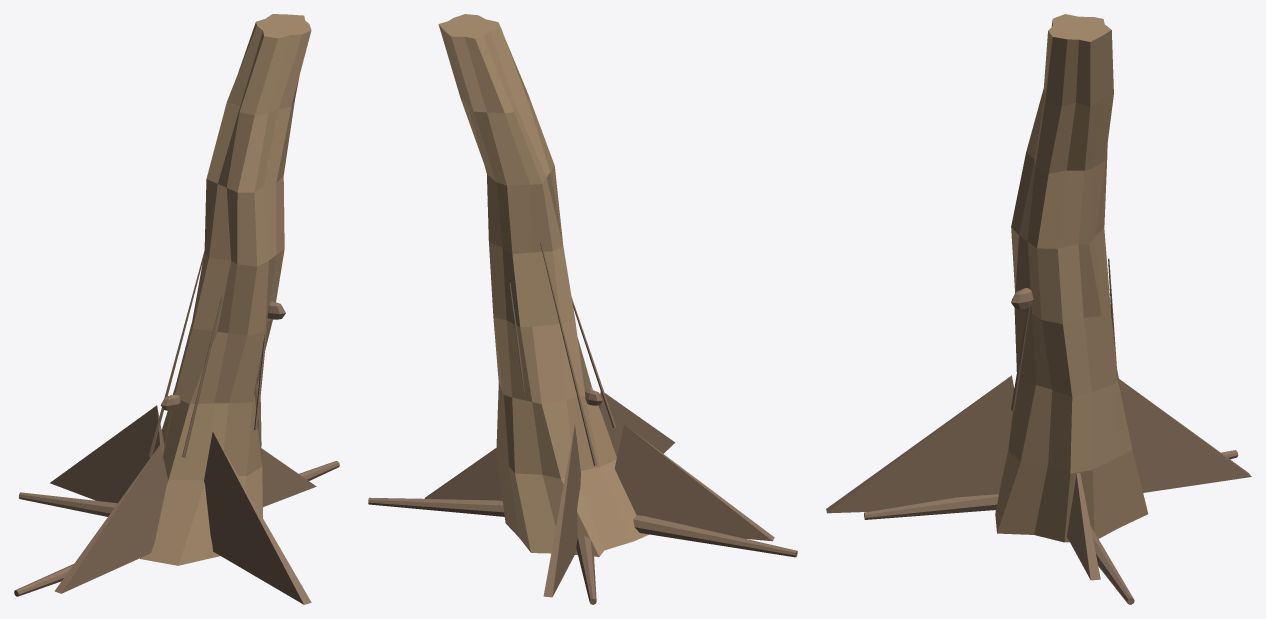
File: myb_forest_trunk_leaning_a.fbx
3 views of the same model, side by side, from view 1: azimuth 30°, elevation 25°; view 2: azimuth 150°, elevation 25°; view 3: azimuth 270°, elevation 25° (orthographic). The views are drawn at different scales.
Parts seen in each view (by area): view 1: myb_forest_trunk_leaning_a; view 2: myb_forest_trunk_leaning_a; view 3: myb_forest_trunk_leaning_a.
Boxes of the visible parts, x1,y1,x2,y2 form: myb_forest_trunk_leaning_a: (14,14,339,604); myb_forest_trunk_leaning_a: (368,14,797,604); myb_forest_trunk_leaning_a: (826,14,1251,604).
Size of the model in its own units: 2.54 by 3.1 by 2.23.
